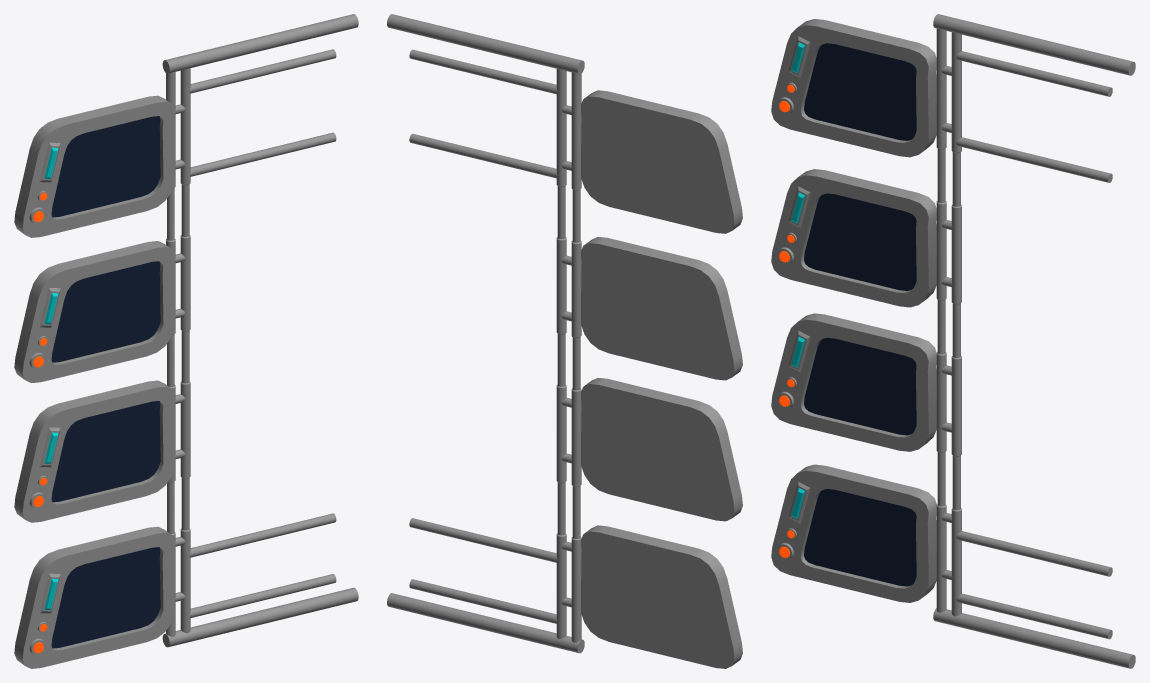
Rendered from _pgrades.FBX.
3 views of the same model, side by side, from view 1: azimuth 30°, elevation 25°; view 2: azimuth 150°, elevation 25°; view 3: azimuth 330°, elevation 25° (orthographic). The views are drawn at different scales.
Parts seen in each view (by area): view 1: Group003, Box015, Box025, Box022, Box028, Cylinder004, Cylinder040, Cylinder025, Cylinder003, Cylinder024, Cylinder015, Cylinder023 (+1 smaller); view 2: Box028, Box015, Box022, Box025, Cylinder003, Cylinder004, Cylinder040, Cylinder025, Cylinder016, Cylinder015, Cylinder023, Cylinder024; view 3: Group003, Box015, Box022, Box028, Box025, Cylinder004, Cylinder003, Cylinder040, Cylinder025, Cylinder016, Cylinder015, Cylinder023 (+1 smaller).
Part boxes in pixels (<box>): Group003: <box>51,116,160,648</box>; Box015: <box>14,241,175,382</box>; Box025: <box>14,380,175,522</box>; Box022: <box>14,95,175,237</box>; Box028: <box>14,526,175,668</box>; Cylinder004: <box>180,68,190,633</box>; Cylinder040: <box>162,14,358,73</box>; Cylinder025: <box>162,587,358,647</box>; Cylinder003: <box>166,72,175,636</box>; Cylinder024: <box>189,132,336,176</box>; Cylinder015: <box>189,513,336,557</box>; Cylinder023: <box>189,49,336,93</box>; Box028: <box>581,525,742,668</box>; Box015: <box>581,237,742,380</box>; Box022: <box>581,90,742,233</box>; Box025: <box>581,378,742,521</box>; Cylinder003: <box>571,72,581,642</box>; Cylinder004: <box>556,69,566,639</box>; Cylinder040: <box>387,14,584,74</box>; Cylinder025: <box>387,593,584,653</box>; Cylinder016: <box>409,579,557,623</box>; Cylinder015: <box>409,518,557,562</box>; Cylinder023: <box>409,49,557,94</box>; Cylinder024: <box>409,133,557,178</box>; Group003: <box>804,43,916,586</box>; Box015: <box>771,169,936,307</box>; Box022: <box>771,19,936,157</box>; Box028: <box>771,464,936,602</box>; Box025: <box>771,313,936,451</box>; Cylinder004: <box>951,32,961,616</box>; Cylinder003: <box>936,28,946,612</box>; Cylinder040: <box>933,14,1135,75</box>; Cylinder025: <box>933,608,1135,668</box>; Cylinder016: <box>956,593,1112,639</box>; Cylinder015: <box>956,531,1112,576</box>; Cylinder023: <box>956,51,1112,96</box>.
Size of the model in its own units: 168 by 277 by 12.14.
